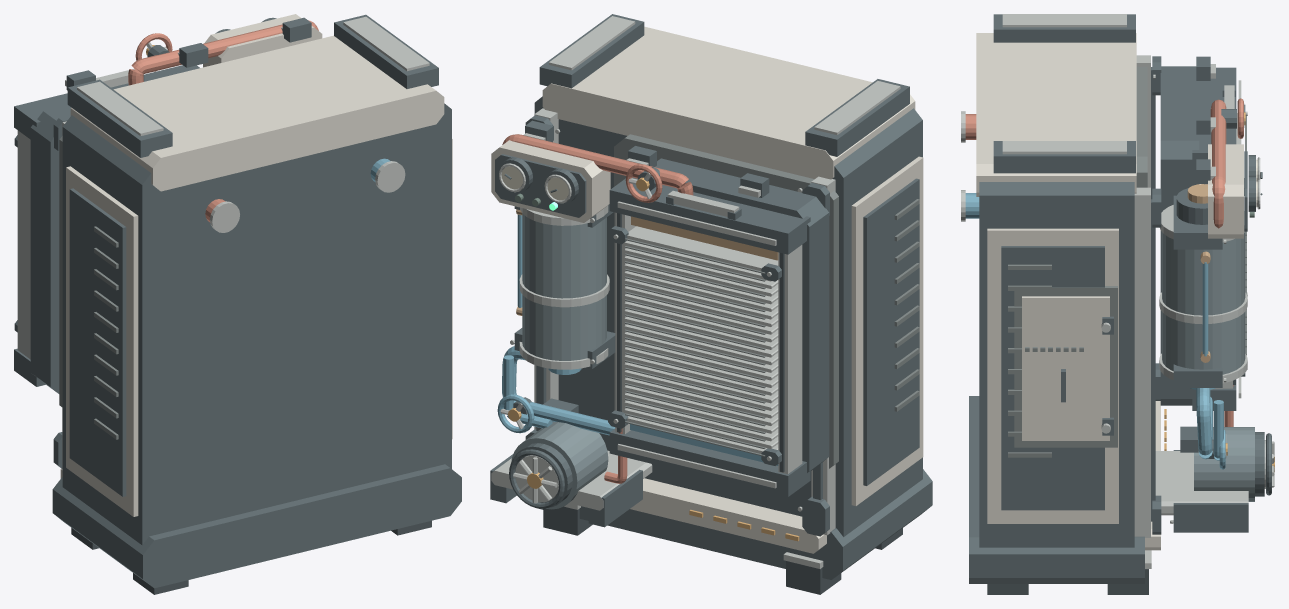
File: thermal_control_unit_source.glb
The picture shows the model from 3 angles, left to right: view 1: azimuth 30°, elevation 25°; view 2: azimuth 150°, elevation 25°; view 3: azimuth 270°, elevation 25°; orthographic projection. The views are drawn at different scales.
Parts seen in each view (by area): view 1: static__frame, static__shell, static__trim, static__recess, static__hot, static__rubber; view 2: static__frame, static__trim, static__shell, static__recess, static__darkblue, static__rubber, static__cold, static__hot, static__copper, exchanger_cartridge__trim, static__ceramic, pump_rotor__trim (+2 smaller); view 3: static__frame, static__shell, static__trim, static__darkblue, static__recess, static__cold, static__hot, static__rubber, static__copper.
Part boxes in pixels (x1,y1,x2,y2): static__frame: (14, 14, 461, 588); static__shell: (60, 14, 452, 516); static__trim: (17, 16, 429, 472); static__recess: (59, 136, 118, 439); static__hot: (128, 20, 318, 222); static__rubber: (71, 520, 431, 594); static__frame: (490, 14, 932, 579); static__trim: (491, 16, 900, 568); static__shell: (491, 26, 923, 553); static__recess: (614, 134, 919, 468); static__darkblue: (511, 214, 608, 509); static__rubber: (543, 213, 902, 594); static__cold: (502, 214, 778, 465); static__hot: (502, 134, 693, 483); static__copper: (516, 209, 778, 315); exchanger_cartridge__trim: (667, 190, 739, 216); static__ceramic: (501, 166, 568, 200); pump_rotor__trim: (513, 457, 557, 503); static__frame: (969, 14, 1271, 583); static__shell: (976, 33, 1243, 550); static__trim: (961, 14, 1265, 568); static__darkblue: (1162, 232, 1254, 501); static__recess: (1008, 66, 1246, 457); static__cold: (965, 193, 1223, 460); static__hot: (965, 99, 1233, 426); static__rubber: (987, 379, 1235, 594); static__copper: (1187, 184, 1210, 362).
Size of the model in its own units: 1.49 by 1.9 by 1.21.
